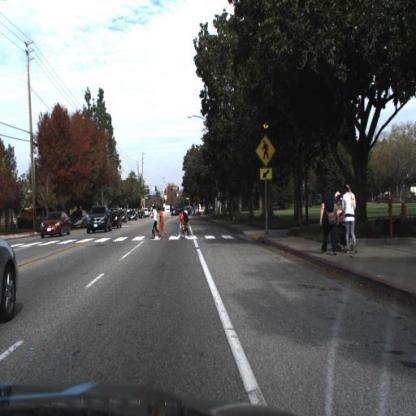car: (39, 208, 74, 242), (86, 201, 113, 237), (40, 211, 72, 238), (87, 204, 112, 236)
pedestrian: (319, 186, 340, 256), (342, 183, 361, 254), (341, 183, 360, 253), (151, 204, 161, 240), (183, 212, 194, 243), (158, 204, 167, 240), (151, 204, 160, 239), (176, 210, 186, 238), (177, 210, 186, 236)
